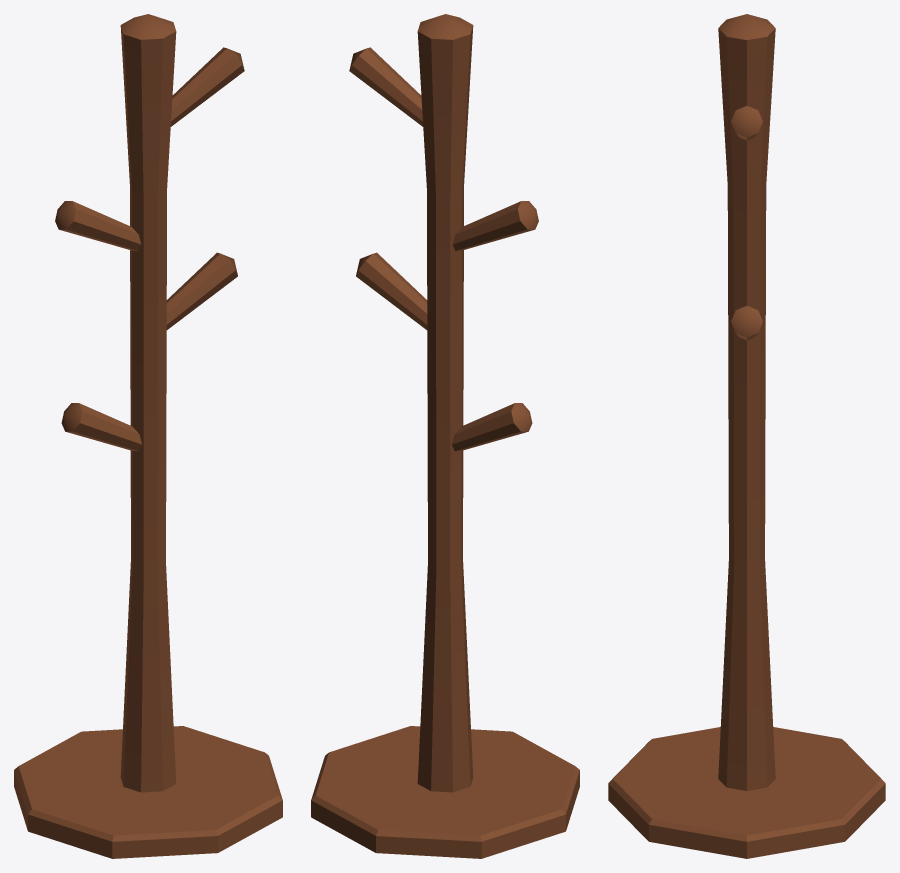
File: 16_furniture_hanger.FBX
3 views of the same model, side by side, from view 1: azimuth 30°, elevation 25°; view 2: azimuth 150°, elevation 25°; view 3: azimuth 270°, elevation 25° (orthographic).
Visible parts, largest first — view 1: furniture_hanger; view 2: furniture_hanger; view 3: furniture_hanger.
Boxes of the visible parts, x1,y1,x2,y2 form: furniture_hanger: [14, 14, 282, 858]; furniture_hanger: [311, 14, 579, 858]; furniture_hanger: [608, 14, 885, 858].
Bounding box in the file's own units: 42.54 × 133 × 42.54.
